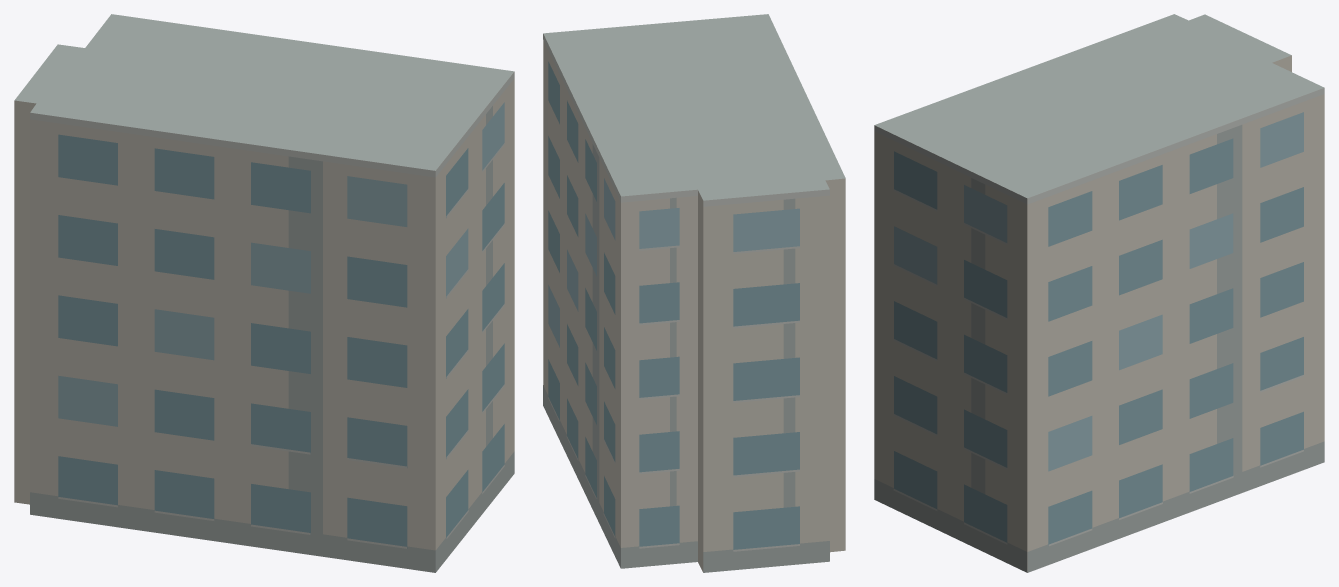
File: survey-upis-33017667.glb
3 renders of one model, left to right at view 1: azimuth 30°, elevation 25°; view 2: azimuth 150°, elevation 25°; view 3: azimuth 270°, elevation 25°, orthographic. The views are drawn at different scales.
Visible parts, largest first — view 1: survey-upis-33017667.tmp; view 2: survey-upis-33017667.tmp; view 3: survey-upis-33017667.tmp.
Boxes of the visible parts, box(x1,y1,x2,y2) form: survey-upis-33017667.tmp: box(14, 14, 514, 572); survey-upis-33017667.tmp: box(543, 14, 845, 572); survey-upis-33017667.tmp: box(874, 14, 1324, 572).
Bounding box in the file's own units: 15.53 × 14.7 × 16.03.
